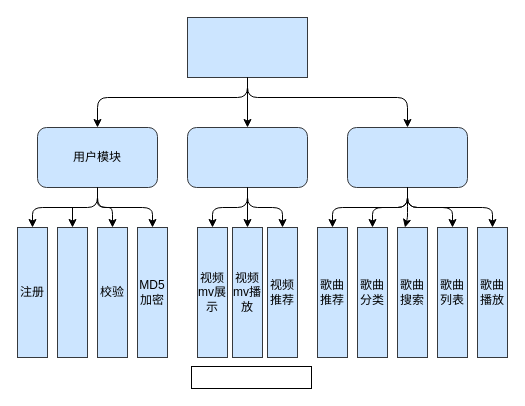
The diagram is 525 pixels wide and 406 high, and some of its shapes have lost their labels. The shapes that lost their labels are listed below. From the top down, each one's centre as x and y in pixels, then its label:
At [247,47]: "EaseMusic".
At [247,157]: "视频mv模块".
At [407,157]: "音乐播放模块".
At [72,292]: "登录".
At [251,377]: "系统功能模块图".
